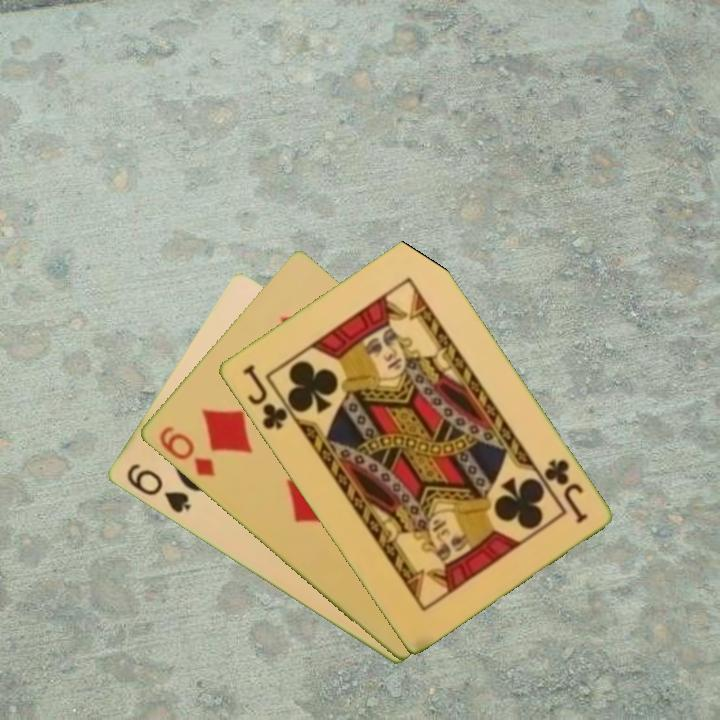6d: (155, 422, 218, 480)
6s: (122, 460, 193, 516)
Jc: (238, 360, 290, 433), (539, 455, 590, 527)
